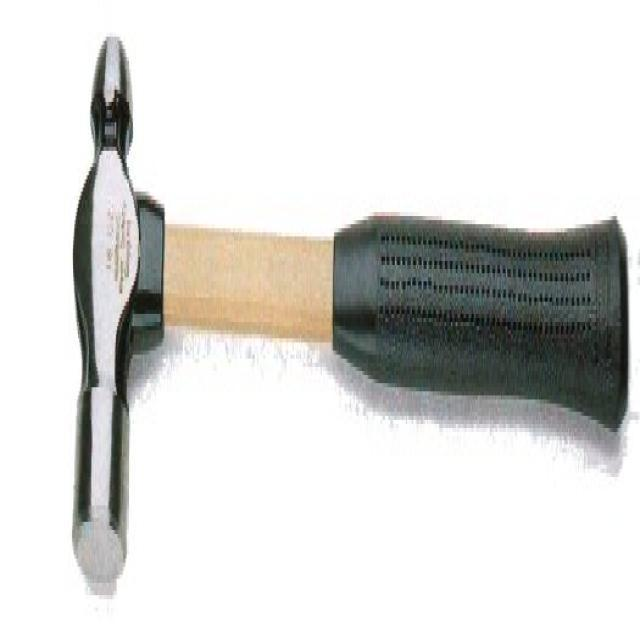hammer: (64, 12, 635, 618)
